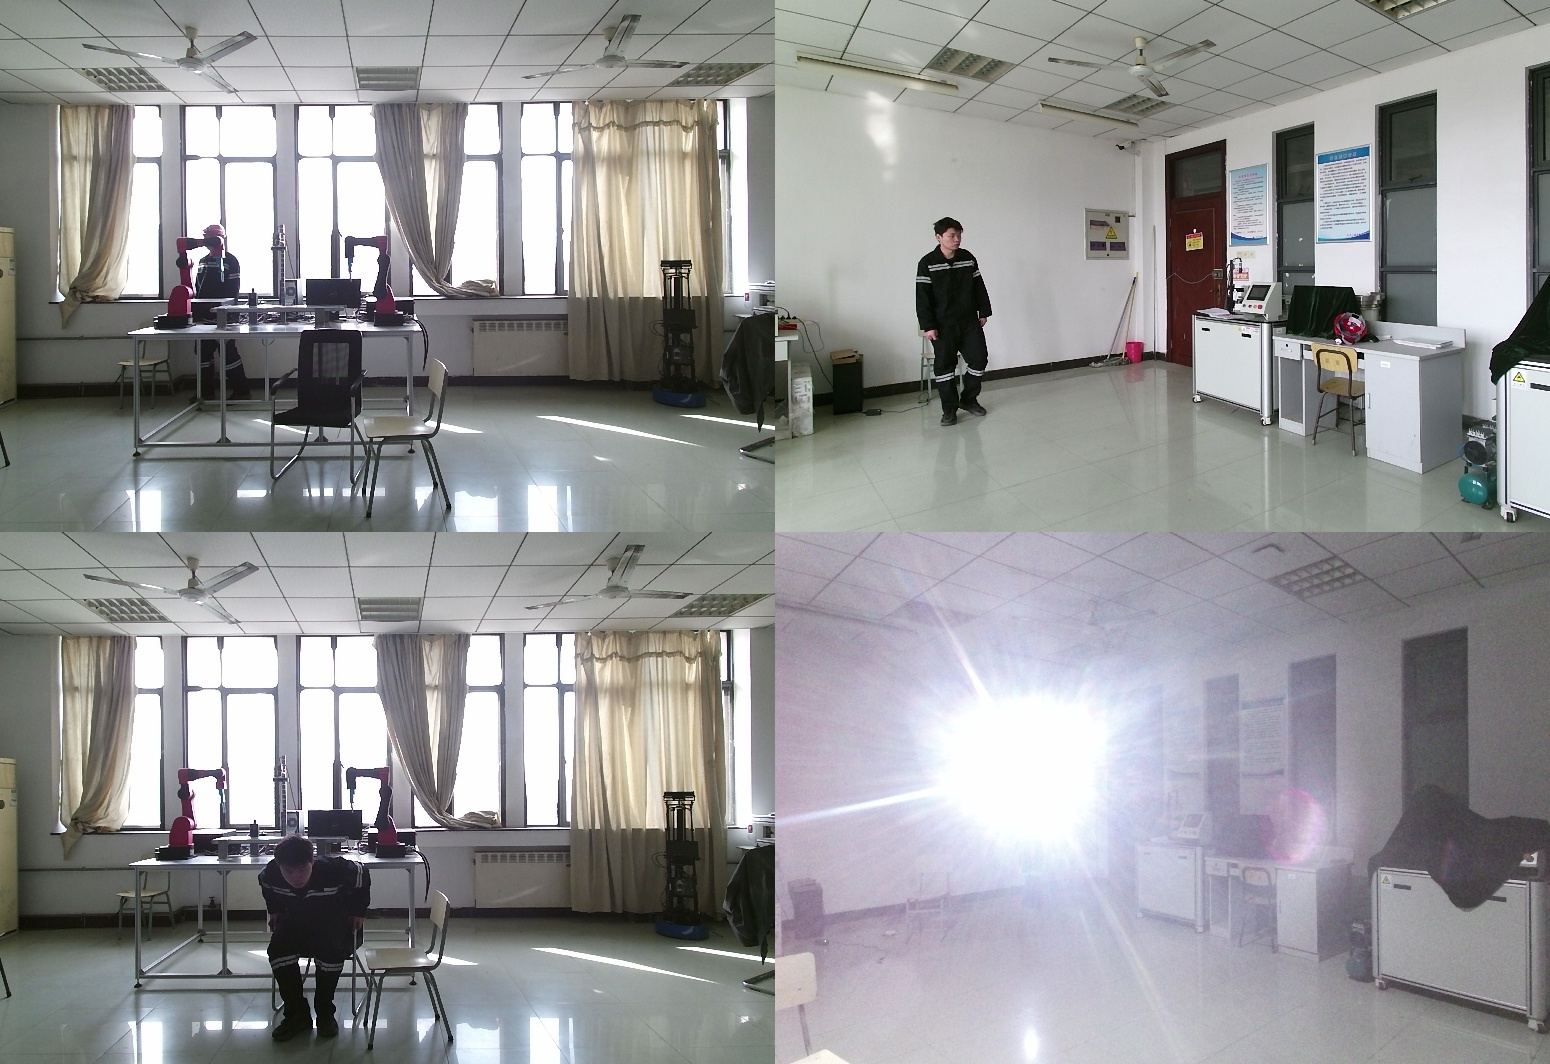person: (259, 835, 380, 1039), (908, 217, 1002, 429), (192, 224, 249, 405), (1006, 764, 1059, 907)
